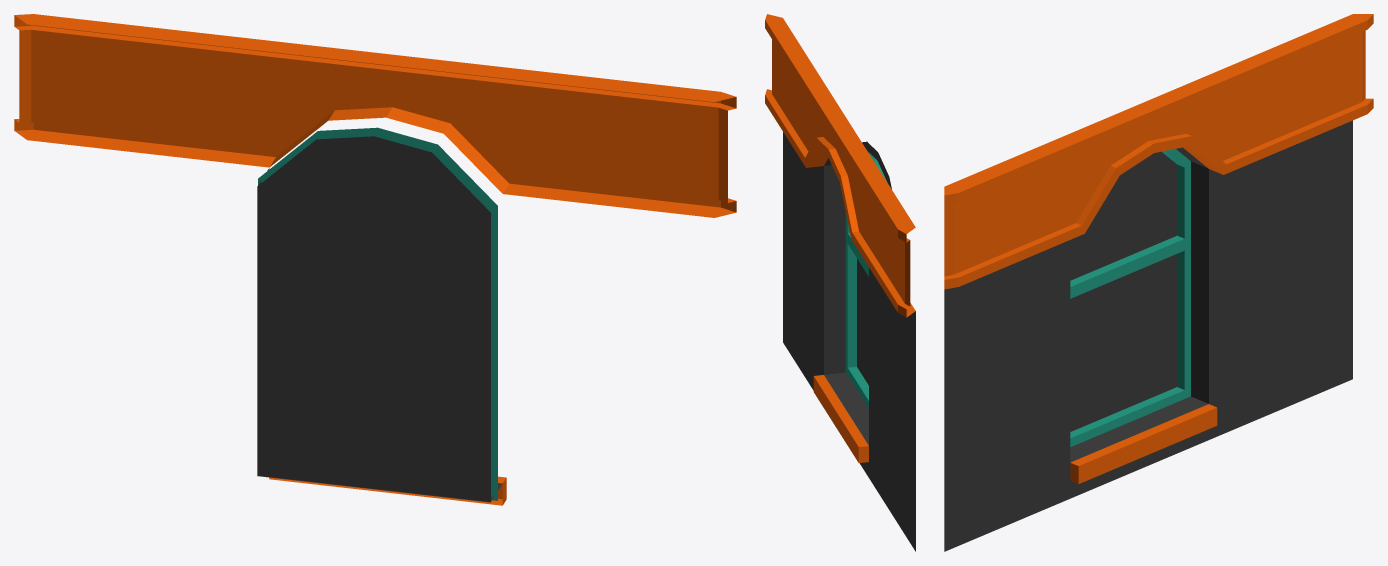
Rendered from SM_M_Corner_Build_02.fbx.
3 views of the same model, side by side, from view 1: azimuth 30°, elevation 25°; view 2: azimuth 150°, elevation 25°; view 3: azimuth 270°, elevation 25° (orthographic). The views are drawn at different scales.
Visible parts, largest first — view 1: SM_M_Corner_Build_02; view 2: SM_M_Corner_Build_02; view 3: SM_M_Corner_Build_02.
Boxes of the visible parts, x1=… form: SM_M_Corner_Build_02: x1=14, y1=14, x2=736, y2=505; SM_M_Corner_Build_02: x1=765, y1=14, x2=915, y2=551; SM_M_Corner_Build_02: x1=944, y1=14, x2=1373, y2=551.
Bounding box in the file's own units: 565 × 530 × 565.
